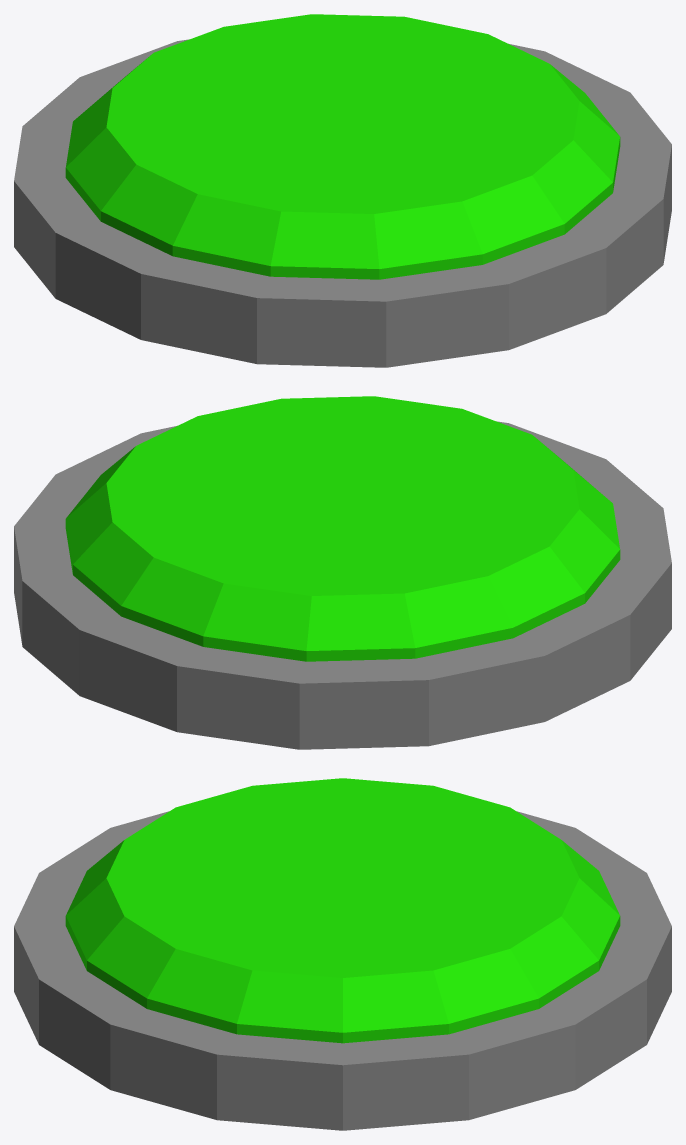
Rendered from ButtonModel.fbx.
The picture shows the model from 3 angles, top to bottom: view 1: azimuth 30°, elevation 25°; view 2: azimuth 150°, elevation 25°; view 3: azimuth 270°, elevation 25°; orthographic projection.
Visible parts, largest first — view 1: Button, Border; view 2: Button, Border; view 3: Button, Border.
Part boxes in pixels (bbox=[...]): Button: bbox=[65, 14, 620, 279]; Border: bbox=[14, 39, 671, 367]; Button: bbox=[65, 396, 620, 661]; Border: bbox=[14, 421, 671, 749]; Button: bbox=[65, 778, 620, 1043]; Border: bbox=[14, 811, 671, 1130].
Size of the model in its own units: 200 by 38.12 by 200.
